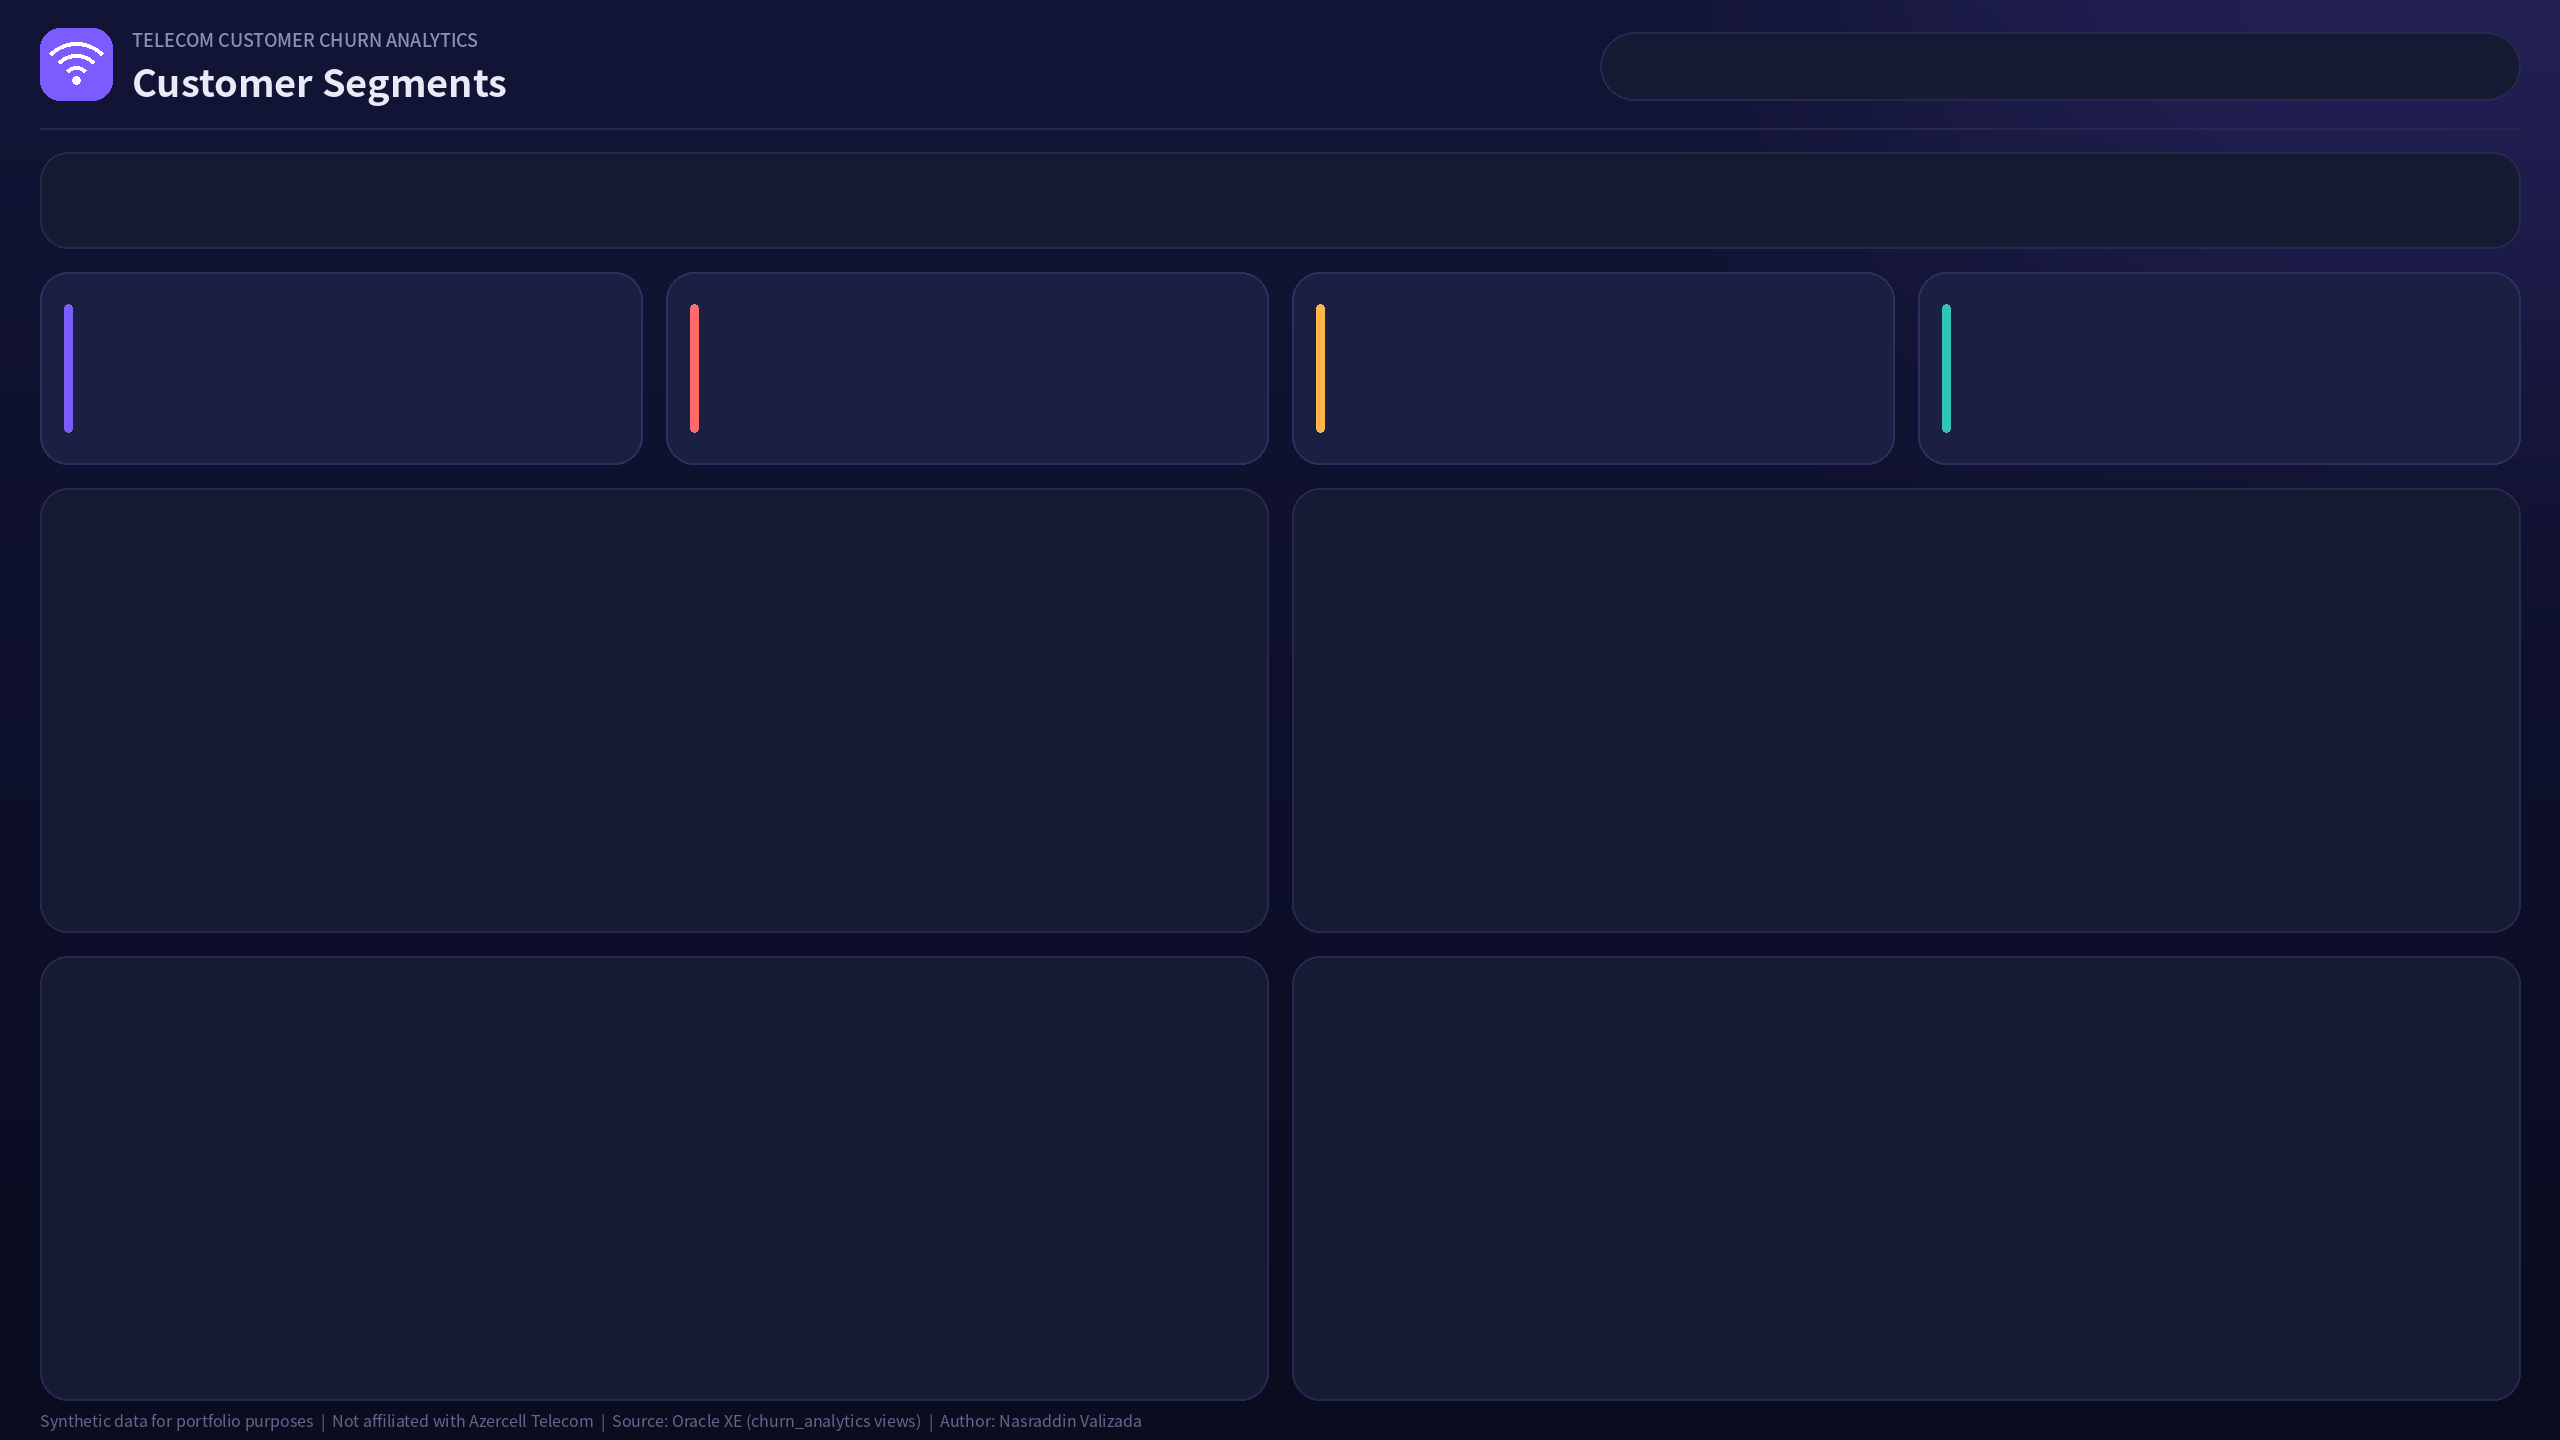

This screenshot's page, from the dashboard's own definition file:
{"tool":"powerbi","page":{"name":"Customer Segments","canvas":[1280,720],"ordinal":2},"visuals":[{"type":"pageNavigator","box":[805.5,17.8,448.7,32.9],"z":0},{"type":"slicer","fields":{"Values":["DimPlanType.Plan Type"]},"box":[28,77,300,46],"z":1000},{"type":"textbox","box":[359.5,76.8,860.4,39.8],"z":2000},{"type":"advanceCardE03760C5AB684758B56AA29F9E6C257B","fields":{"mainMeasure":["_Measures.Lifetime Churn Rate"]},"box":[56.3,138.6,242.3,92.7],"z":3000},{"type":"advanceCardE03760C5AB684758B56AA29F9E6C257B","fields":{"mainMeasure":["_Measures.Churners by Reason"]},"box":[370.5,138.6,242.3,92.7],"z":4000},{"type":"advanceCardE03760C5AB684758B56AA29F9E6C257B","fields":{"mainMeasure":["_Measures.Avg Tenure of Churners"]},"box":[683.4,138.6,242.3,92.7],"z":5000},{"type":"advanceCardE03760C5AB684758B56AA29F9E6C257B","fields":{"mainMeasure":["_Measures.Failed Payment Rate"]},"box":[999,138.6,242.3,92.7],"z":6000},{"type":"clusteredColumnChart","title":"Lifetime churn rate by age group","fields":{"Category":["FactCustomer.Age Group"],"Y":["_Measures.Lifetime Churn Rate"]},"box":[654,252,598,206],"z":7000},{"type":"clusteredBarChart","title":"Lifetime churn rate by acquisition channel","fields":{"Category":["DimChannel.Channel"],"Y":["_Measures.Lifetime Churn Rate"]},"box":[28,252,598,206],"z":8000},{"type":"clusteredColumnChart","title":"Churners by months of tenure: early months are the danger zone","fields":{"Category":["FactCustomer.TENURE_MONTHS"],"Y":["_Measures.Churners by Reason"]},"box":[28,486,598,206],"z":9000},{"type":"clusteredBarChart","title":"Lifetime churn rate by city","fields":{"Category":["DimCity.City"],"Y":["_Measures.Lifetime Churn Rate"]},"box":[654.5,485.8,596.9,222.3],"z":10000}]}

Visuals, with their boxes in screenshot pixels (x1, y1, x2, y2), scaled from the page's 1280x720 canvas onto the 2560x1440 screenshot:
pageNavigator: region(1611, 36, 2508, 101)
slicer - DimPlanType.Plan Type: region(56, 154, 656, 246)
textbox: region(719, 154, 2440, 233)
advanceCardE03760C5AB684758B56AA29F9E6C257B - _Measures.Lifetime Churn Rate: region(113, 277, 597, 463)
advanceCardE03760C5AB684758B56AA29F9E6C257B - _Measures.Churners by Reason: region(741, 277, 1226, 463)
advanceCardE03760C5AB684758B56AA29F9E6C257B - _Measures.Avg Tenure of Churners: region(1367, 277, 1851, 463)
advanceCardE03760C5AB684758B56AA29F9E6C257B - _Measures.Failed Payment Rate: region(1998, 277, 2483, 463)
"Lifetime churn rate by age group" clusteredColumnChart: region(1308, 504, 2504, 916)
"Lifetime churn rate by acquisition channel" clusteredBarChart: region(56, 504, 1252, 916)
"Churners by months of tenure: early months are the danger zone" clusteredColumnChart: region(56, 972, 1252, 1384)
"Lifetime churn rate by city" clusteredBarChart: region(1309, 972, 2503, 1416)
